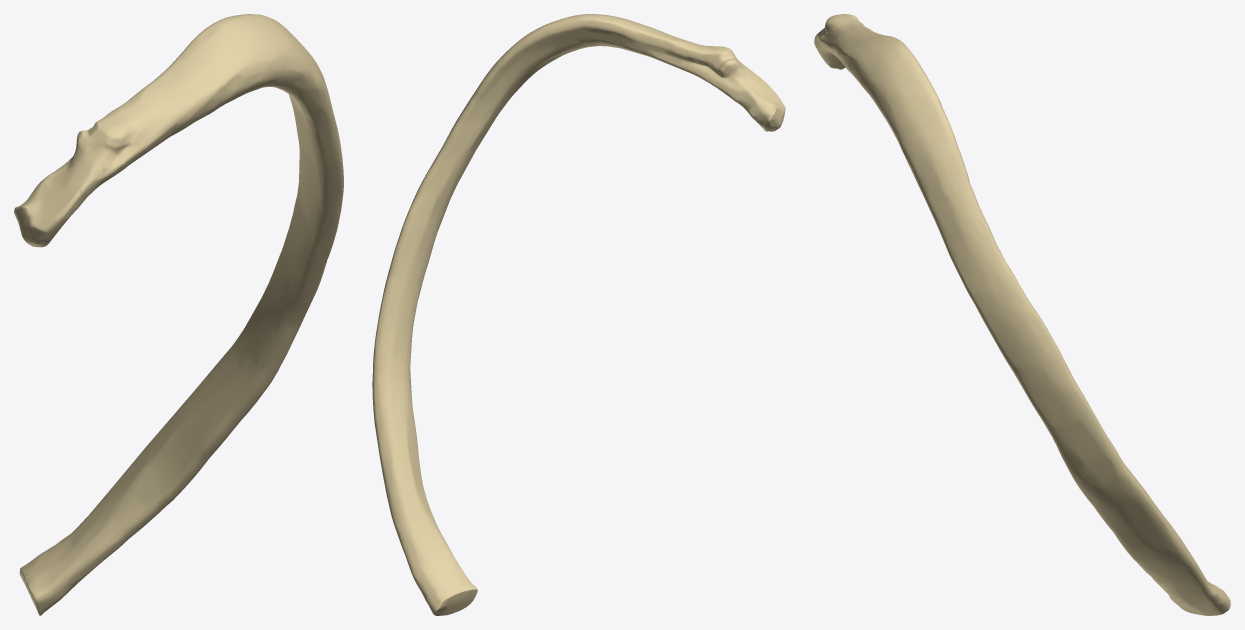
3 views of the same model, side by side, from view 1: azimuth 30°, elevation 25°; view 2: azimuth 150°, elevation 25°; view 3: azimuth 270°, elevation 25° (orthographic). The views are drawn at different scales.
Parts seen in each view (by area): view 1: 左侧第五肋; view 2: 左侧第五肋; view 3: 左侧第五肋.
Boxes of the visible parts, <box> form: 左侧第五肋: <box>14,14,343,615</box>; 左侧第五肋: <box>372,14,785,615</box>; 左侧第五肋: <box>814,14,1230,615</box>.
Size of the model in its own units: 0.1706 by 0.279 by 0.1856.
